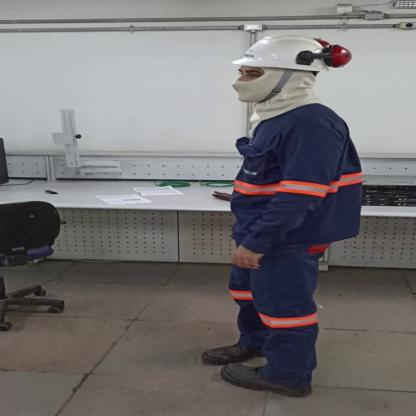Balaclava: (216, 68, 324, 122)
Capacete: (228, 33, 356, 76)
